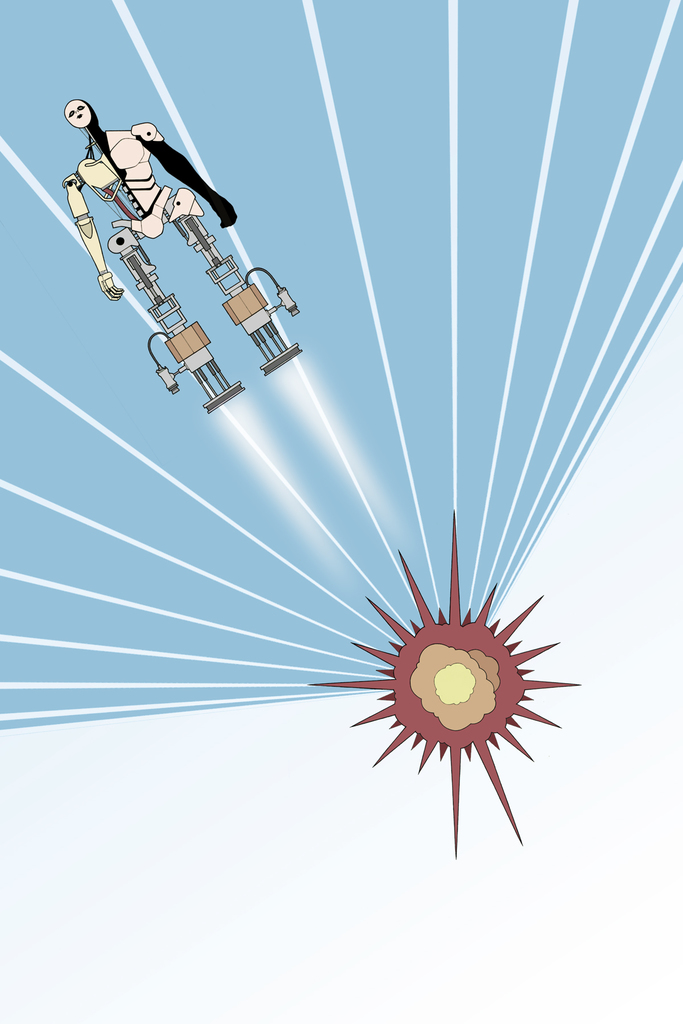Human_hand: (94, 269, 127, 304), (208, 196, 238, 229)
